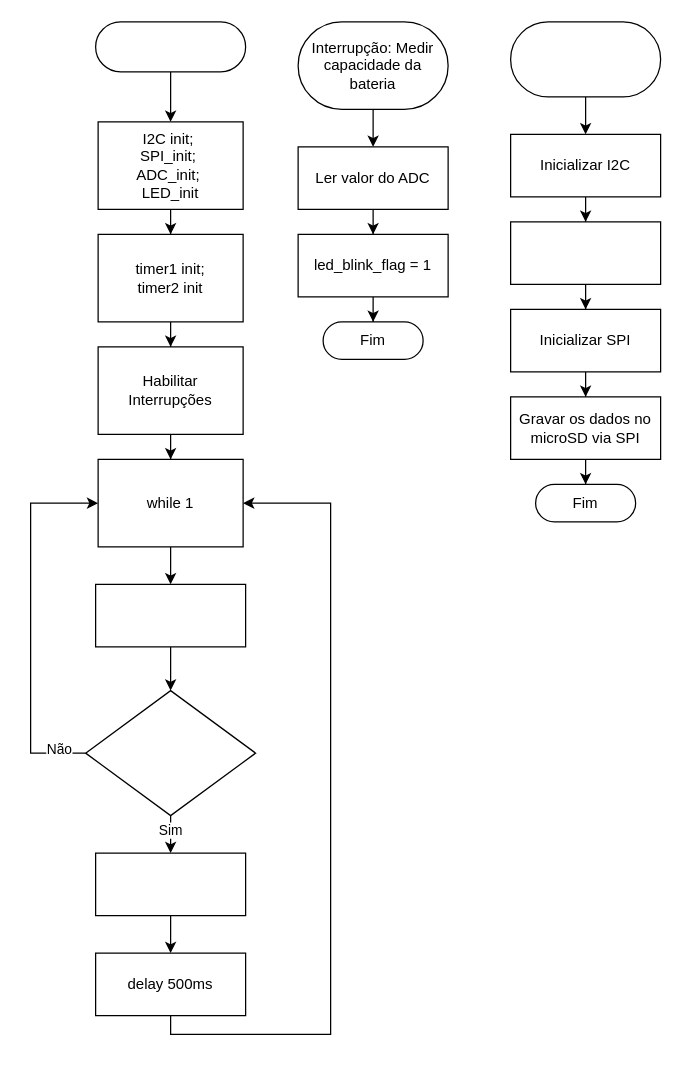
The diagram is 683 pixels wide and 1066 high, and some of its shapes have lost their labels. Each missing label, with the centre of its shape:
"Acender LED" goes at point (170, 615).
"Apagar LED" goes at point (170, 884).
"Interrupção: Ler medições do sensor" goes at point (585, 59).
"Ler dados do registrador do sensor via I2C" goes at point (585, 252).
"main" goes at point (170, 46).
"se led_blink_flag == 1" goes at point (170, 752).
